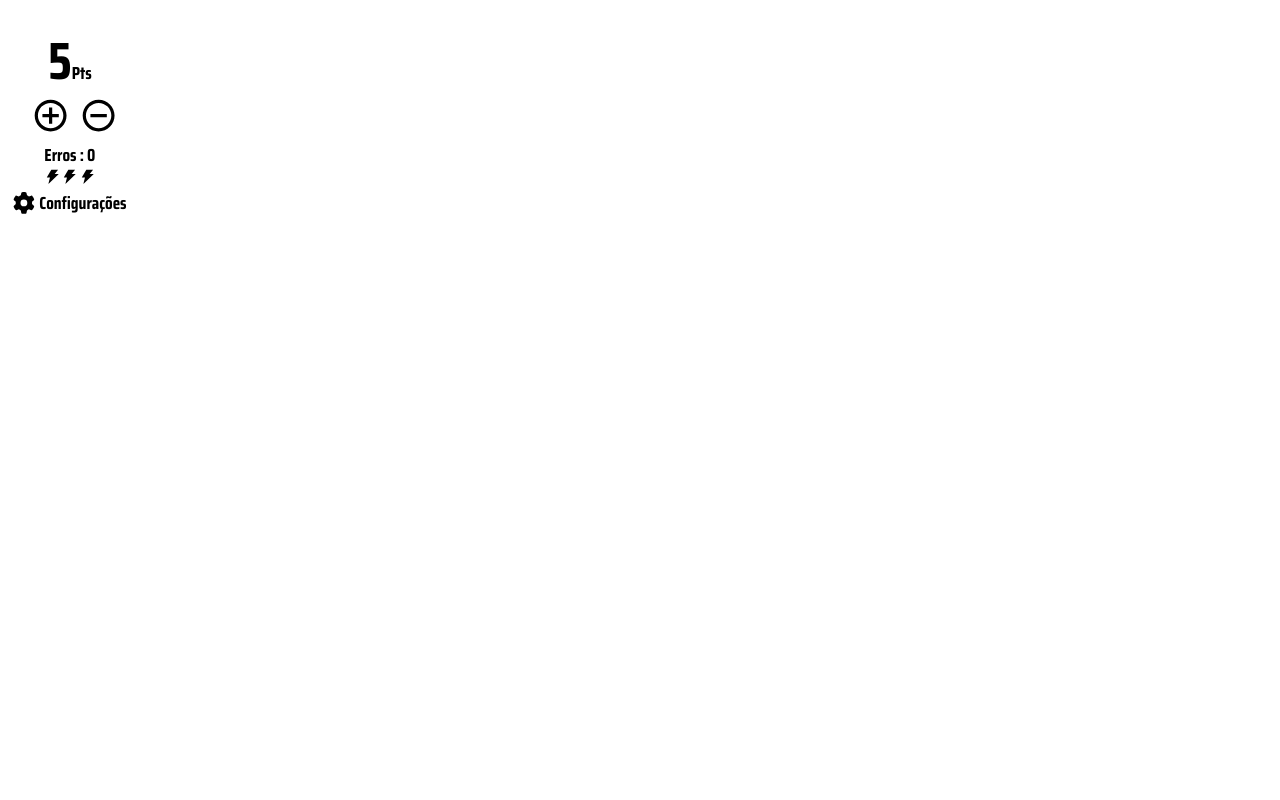
Scenario: CountCard - Render › deve abrir popup de configurações
Click the text "Configurações": (70, 203) [13,189,127,217]
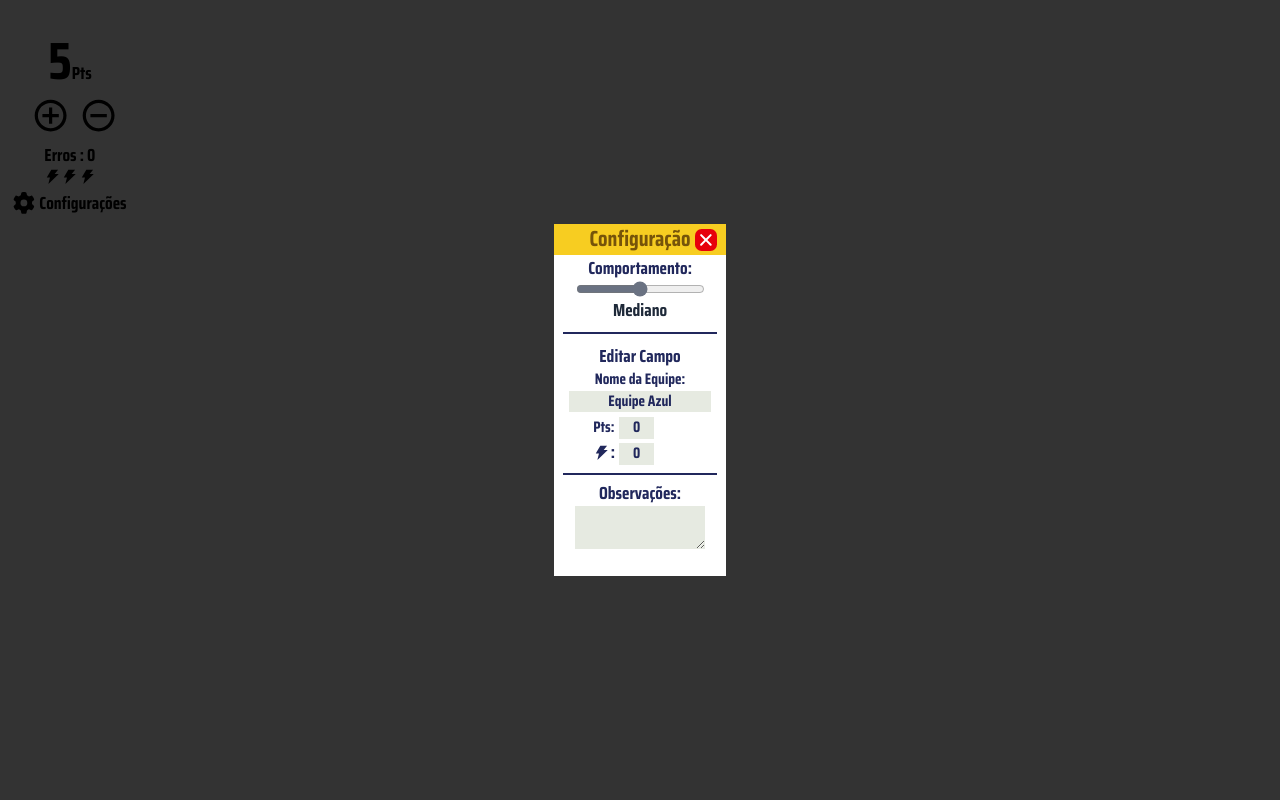
Check: the heading "Configuração" is shown, box [589,221,690,256]
